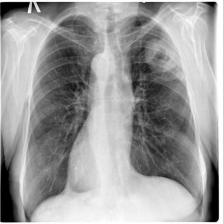tuberculosis: (19, 9, 204, 224)
